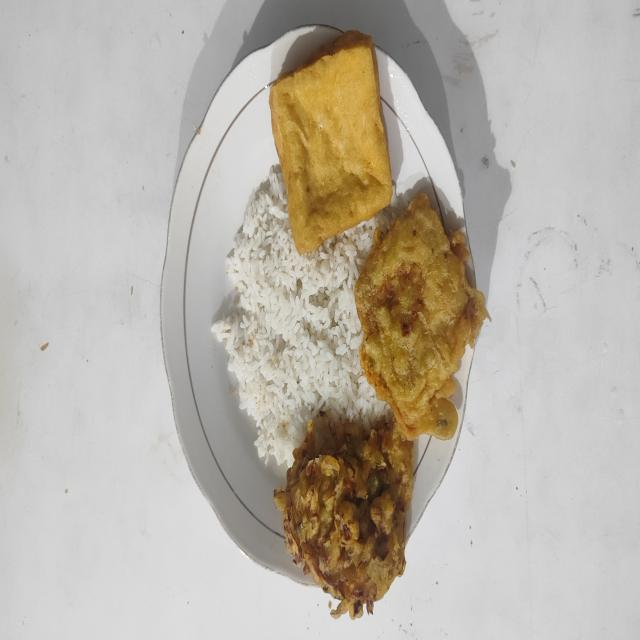nasi_putih: (212, 165, 388, 467)
tahu_goreng: (270, 31, 392, 253)
